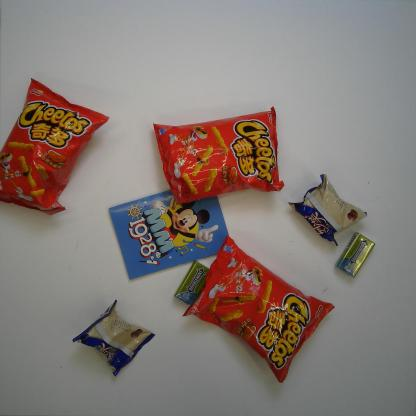Dessert: (70, 300, 158, 380), (287, 172, 369, 245)
Gum: (172, 259, 218, 308), (335, 232, 373, 276)
Puffed Food: (180, 234, 337, 383), (1, 76, 105, 233), (152, 103, 286, 209)
Stationery: (108, 184, 236, 282)
